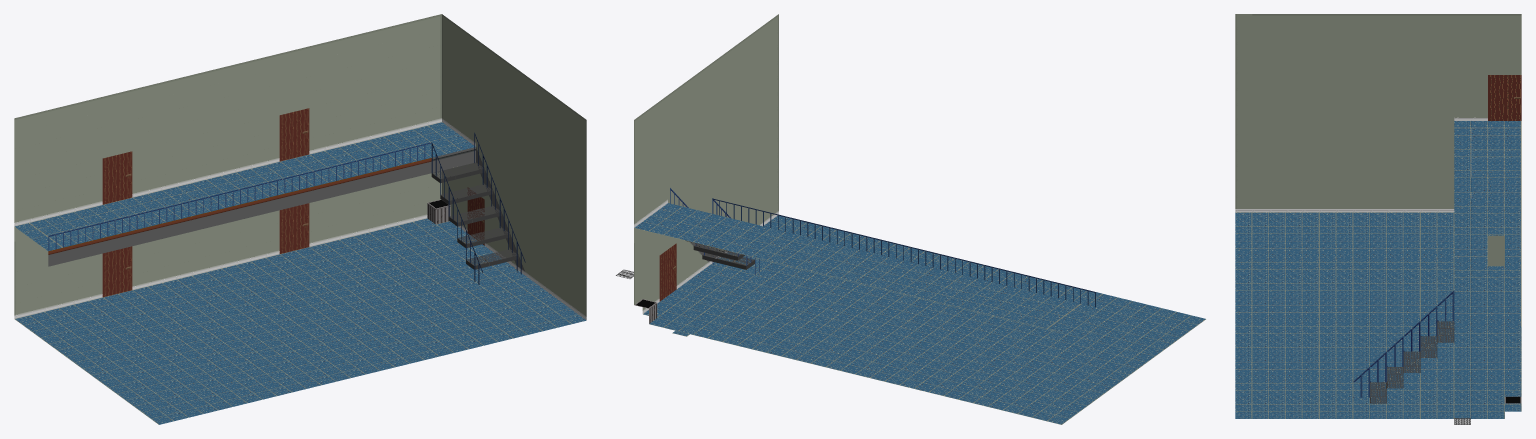
3 renders of one model, left to right at view 1: azimuth 30°, elevation 25°; view 2: azimuth 150°, elevation 25°; view 3: azimuth 270°, elevation 25°, orthographic.
Size of the model in its own units: 21.12 by 9.07 by 11.22.
1 material, 1 textured.
